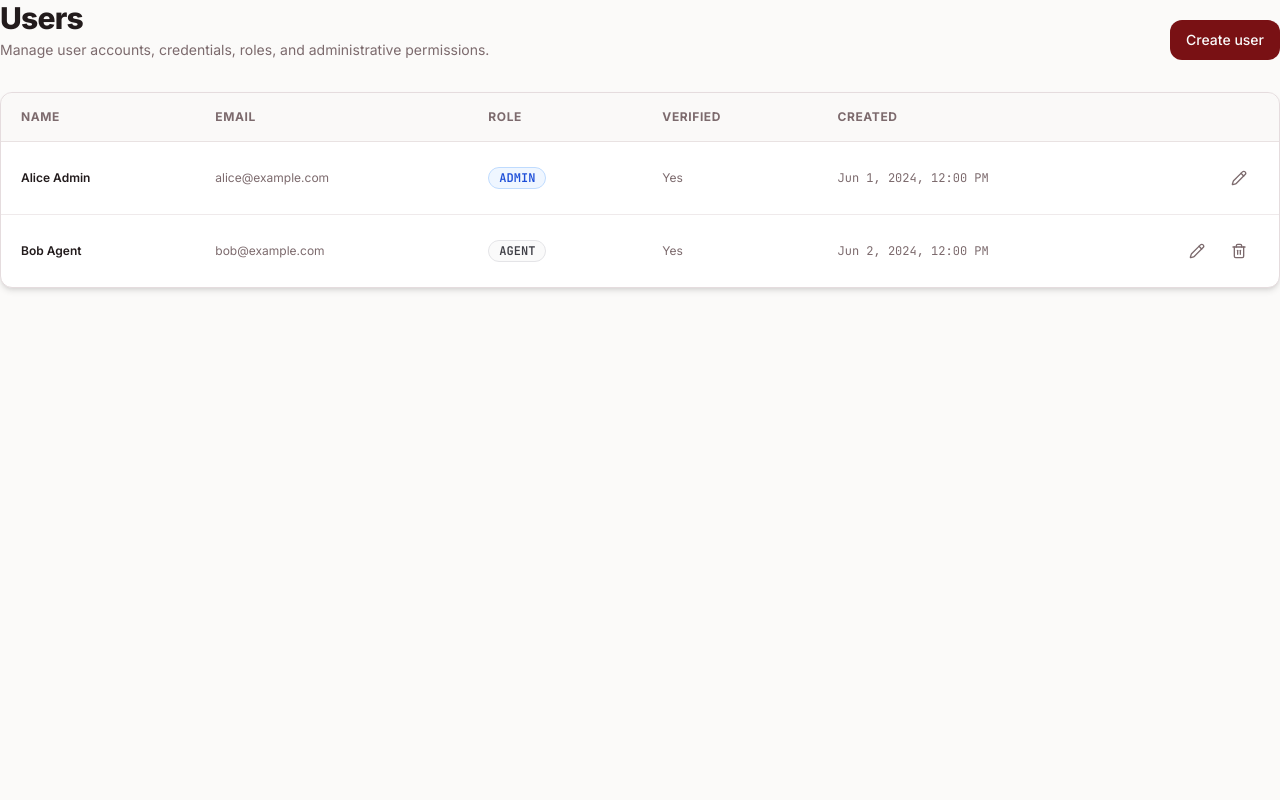
Test case: UsersPage › opens delete confirmation and closes on cancel
Check: the text "Bob Agent" is shown, box [1,214,195,287]
Click the button named "Delete user Bob Agent": click(1239, 251) [1219,231,1259,271]
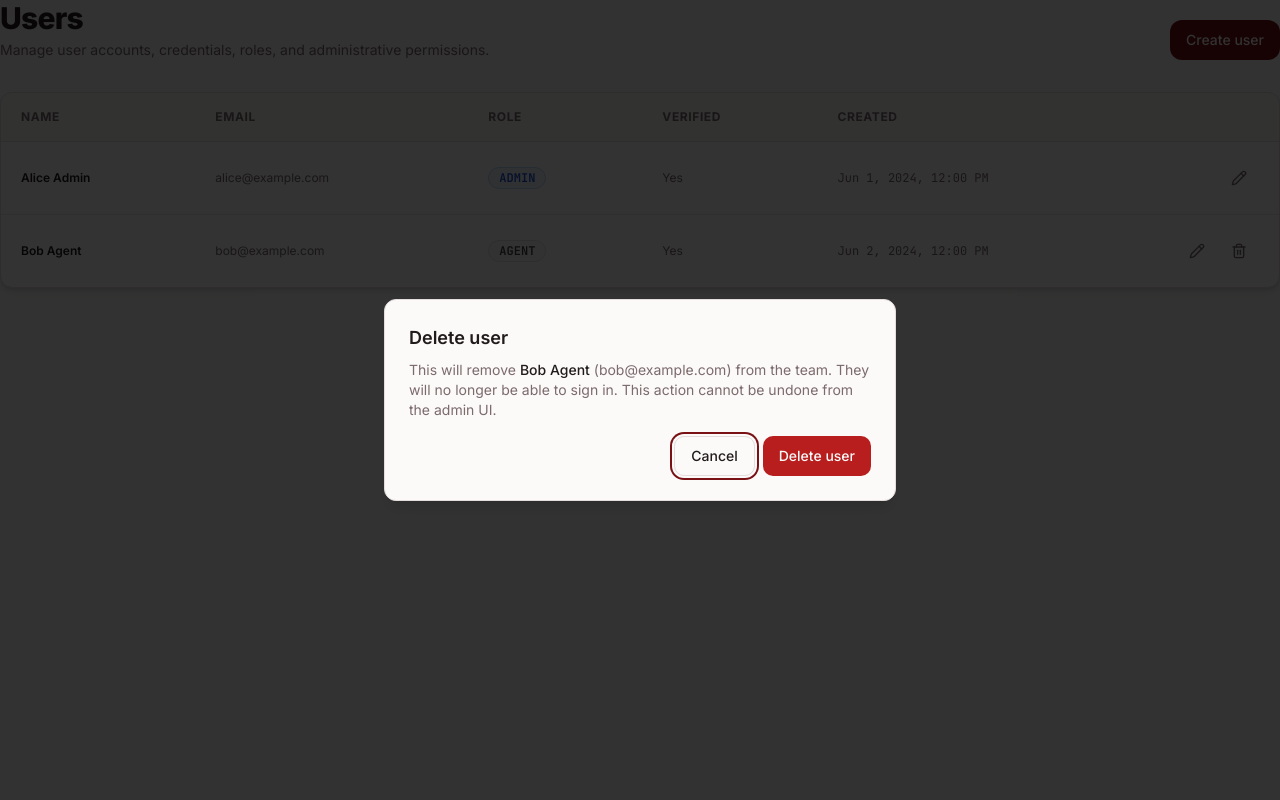
Check: the text "Bob Agent" is shown, box [520,361,590,378]
Check: the text "bob@example.com" is shown, box [599,361,726,378]
Click the button "Cancel": click(715, 456) [674,436,755,476]
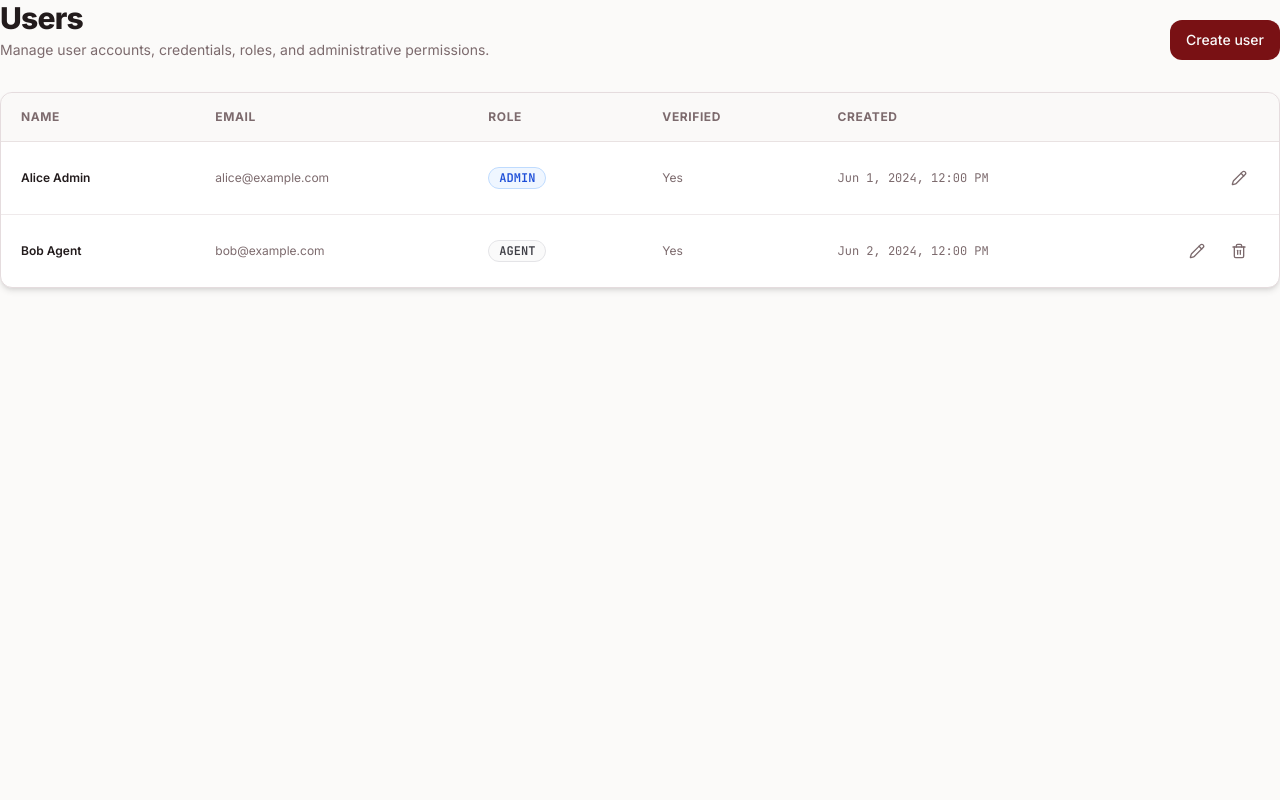
Check: the heading "Delete user" is gone
